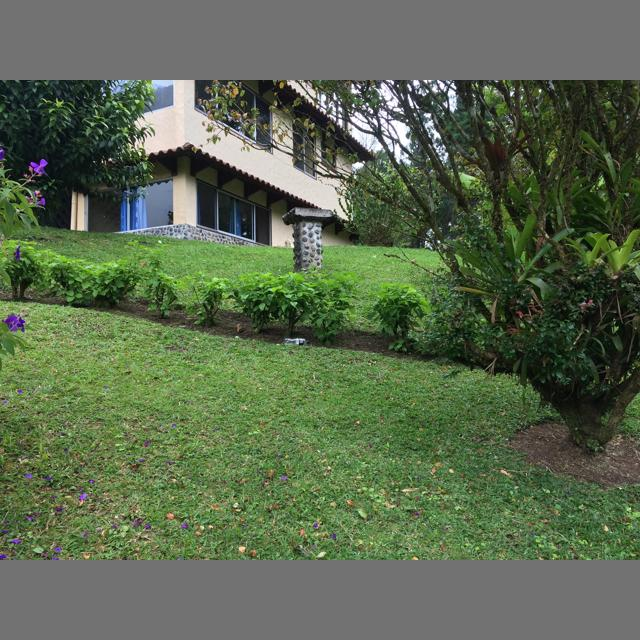litter: (284, 338, 309, 346)
